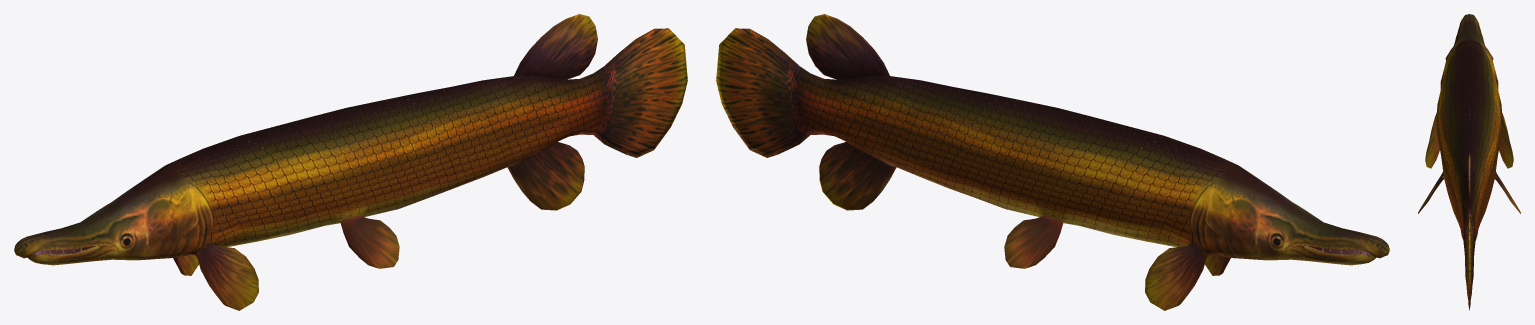
The model's file is fish0222.glb.
The picture shows the model from 3 angles, left to right: view 1: azimuth 30°, elevation 25°; view 2: azimuth 150°, elevation 25°; view 3: azimuth 270°, elevation 25°; orthographic projection. The views are drawn at different scales.
Parts seen in each view (by area): view 1: node_id6; view 2: node_id6; view 3: node_id6.
Part boxes in pixels (x1,y1,x2,y2): node_id6: (14, 14, 687, 310); node_id6: (716, 14, 1389, 310); node_id6: (1418, 14, 1520, 310).
Size of the model in its own units: 0.512 by 0.1388 by 0.0848.
Materials: 2 (2 with a texture image).
